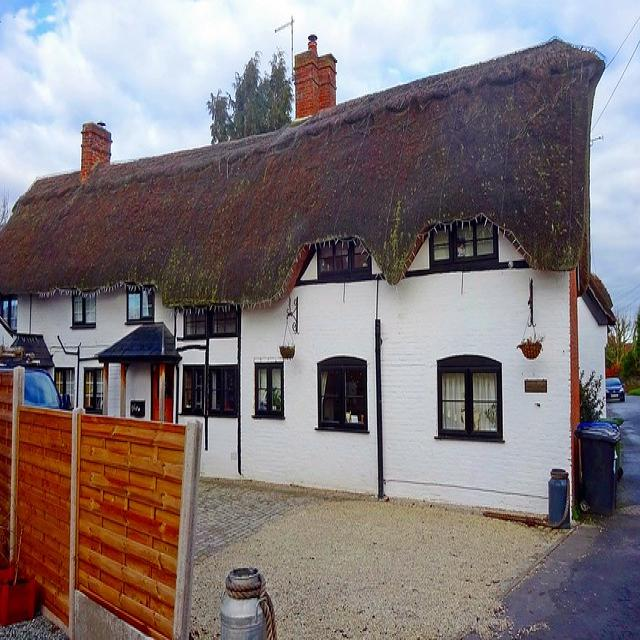building: (6, 33, 606, 532)
